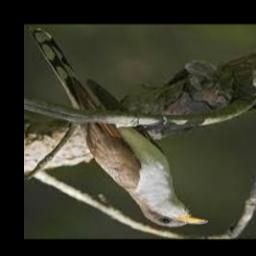Cuckoo: (34, 29, 209, 227)
